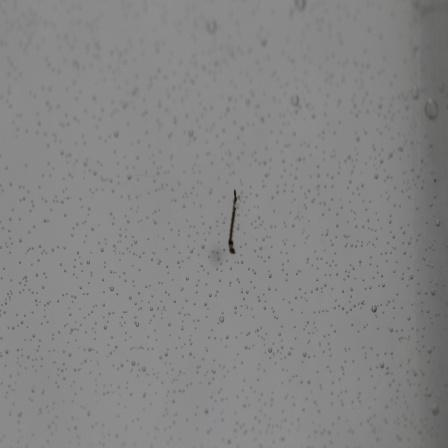Jentik-Nyamuk: (225, 184, 243, 258)
